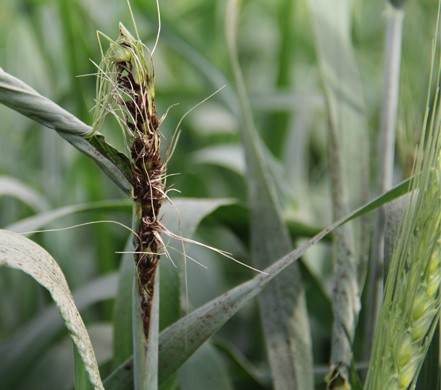Wheat Loose Smut: (99, 43, 175, 297)
